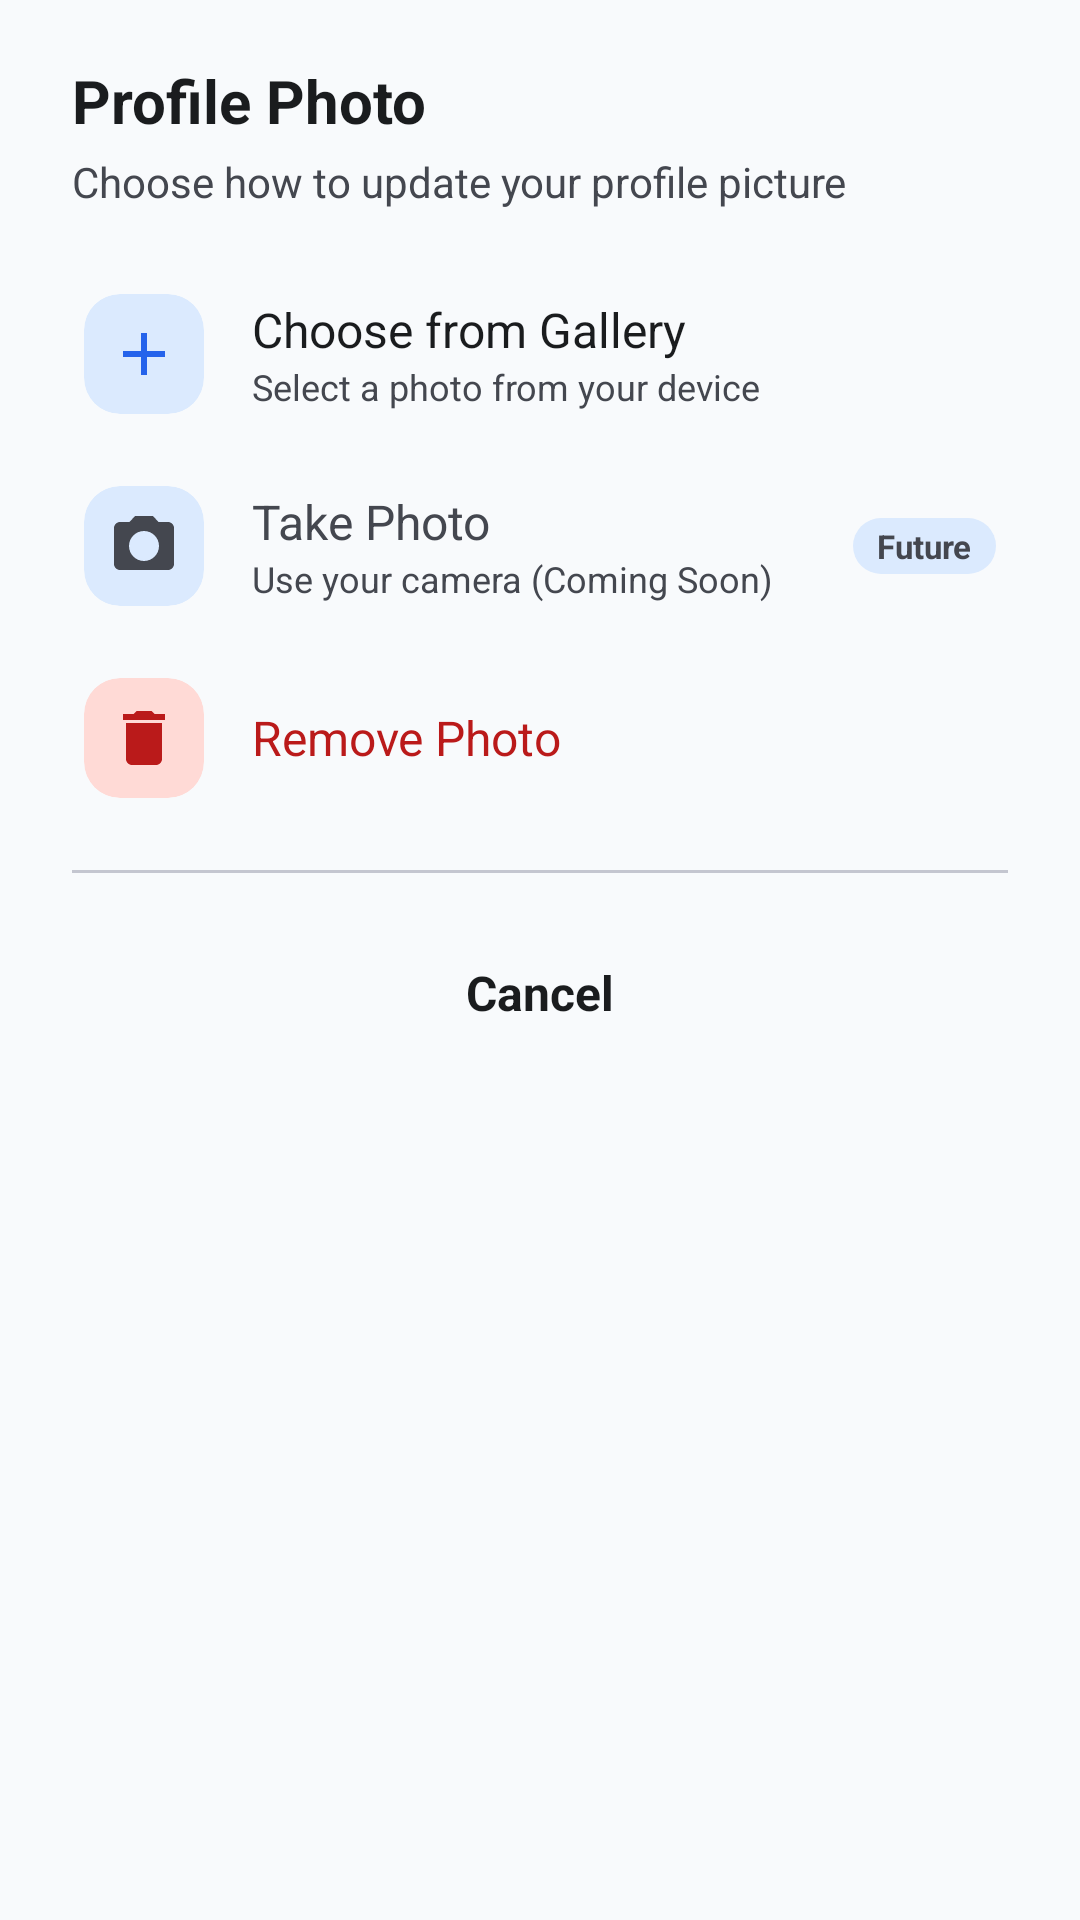

Screen size 1080*1920. Icon name, then its box in pixels as [left=x1, top=y1, right=x2, bottom=y2]:
add: [left=123, top=333, right=165, bottom=375]
delete: [left=123, top=711, right=165, bottom=765]
